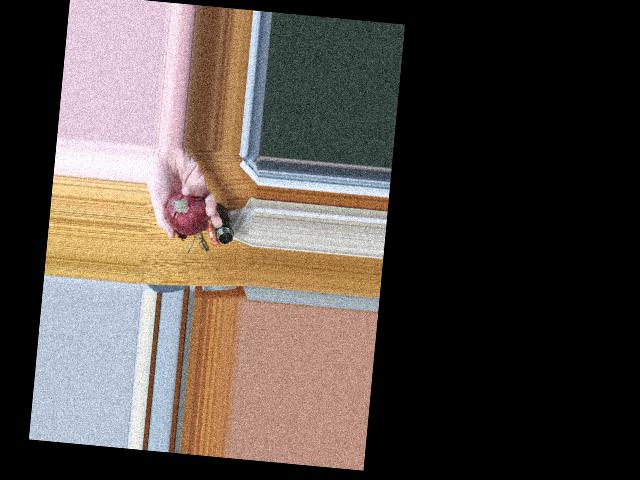onion: (163, 190, 210, 233)
